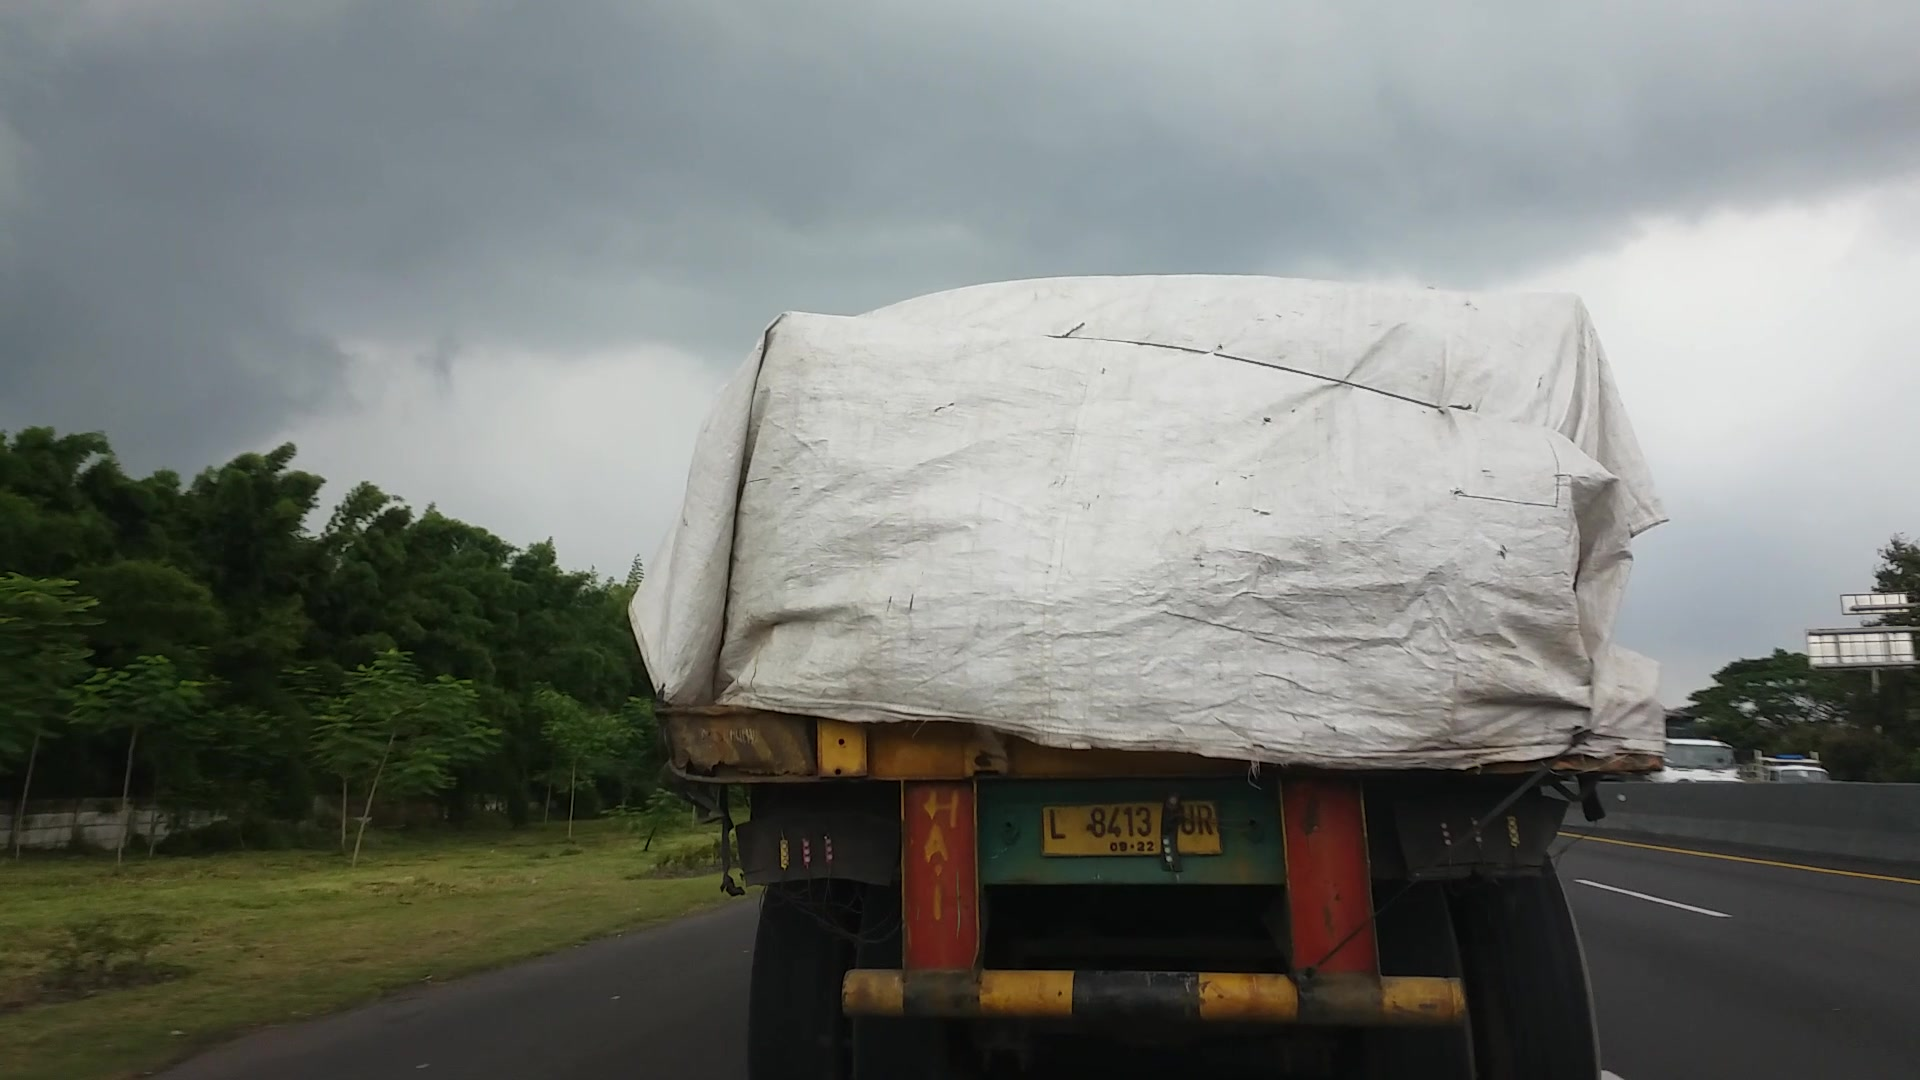plate_positive: (1040, 800, 1222, 856)
